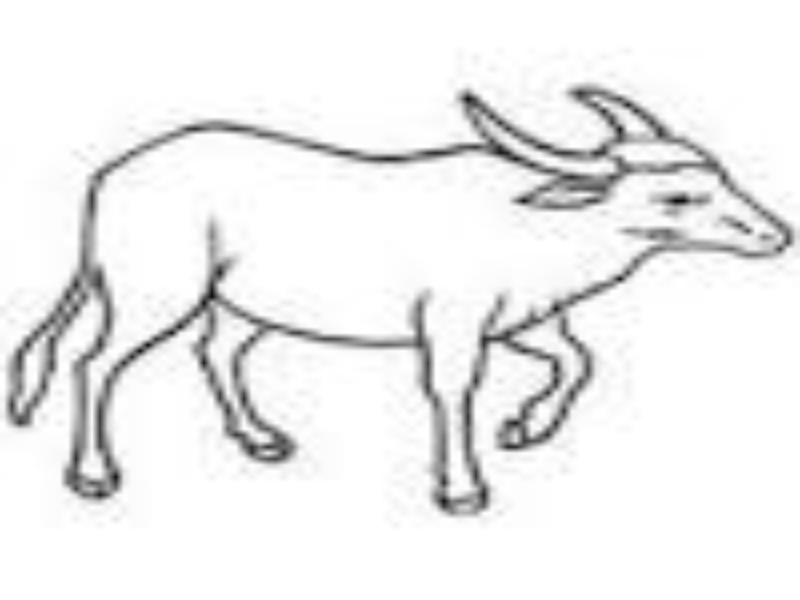buffalo: (27, 80, 784, 525)
